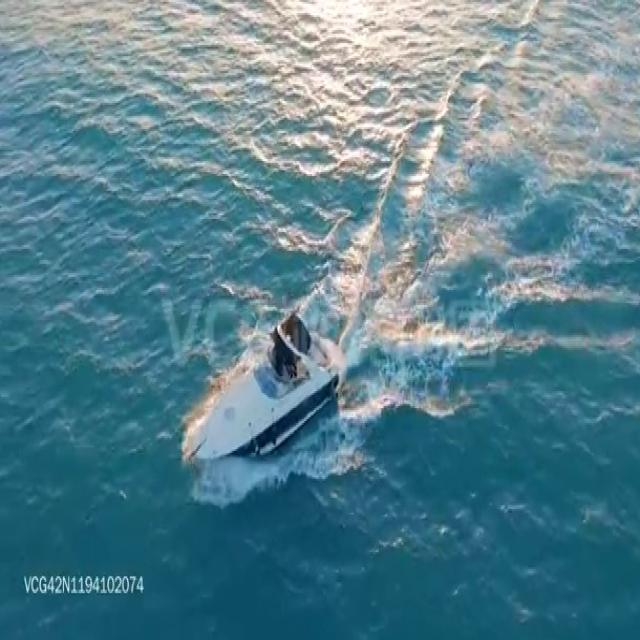houseboat: (176, 299, 340, 471)
